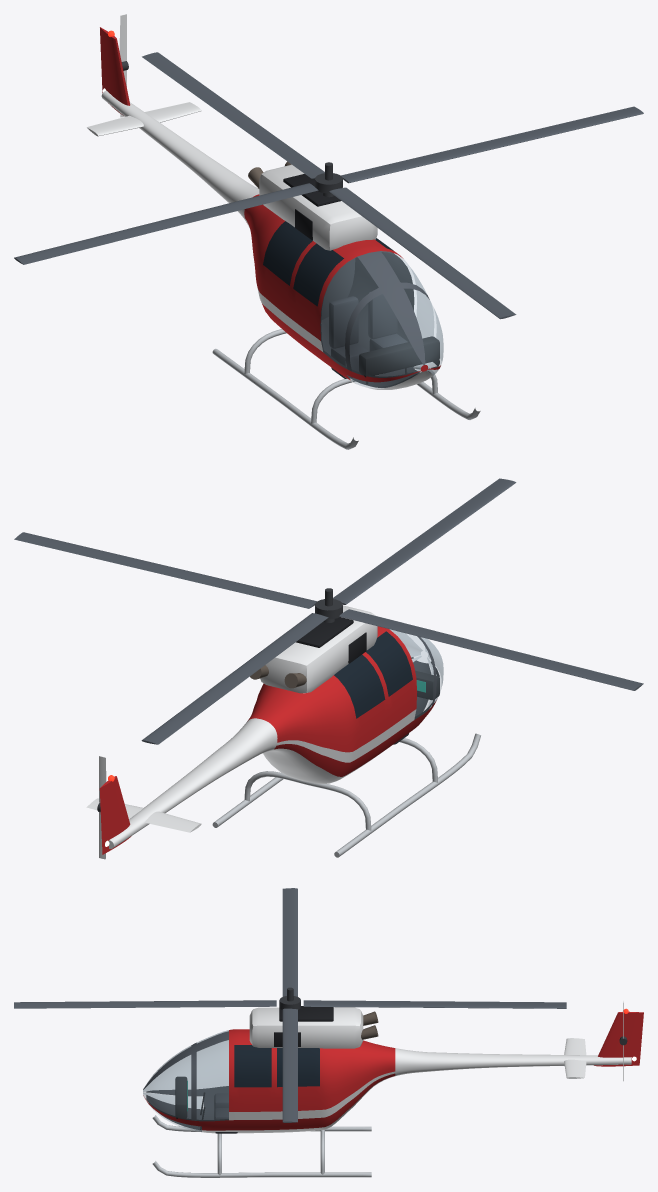
File: helicopter.glb
3 views of the same model, one above another, from view 1: azimuth 30°, elevation 25°; view 2: azimuth 150°, elevation 25°; view 3: azimuth 270°, elevation 25° (orthographic). The views are drawn at different scales.
Parts seen in each view (by area): view 1: Helicopter, Main_Rotor; view 2: Helicopter, Main_Rotor; view 3: Helicopter, Main_Rotor.
Boxes of the visible parts, x1=… form: Helicopter: x1=86, y1=27, x2=480, y2=449; Main_Rotor: x1=14, y1=52, x2=643, y2=319; Helicopter: x1=86, y1=605, x2=480, y2=857; Main_Rotor: x1=14, y1=478, x2=643, y2=744; Helicopter: x1=143, y1=1006, x2=643, y2=1177; Main_Rotor: x1=14, y1=888, x2=566, y2=1122.
Bounding box in the file's own units: 10.2 × 3.38 × 11.63.
